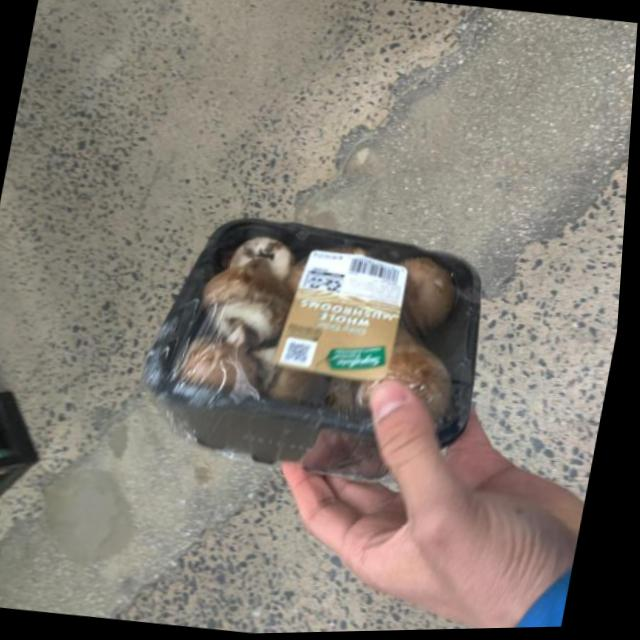Mushrooms: (143, 203, 501, 484)
